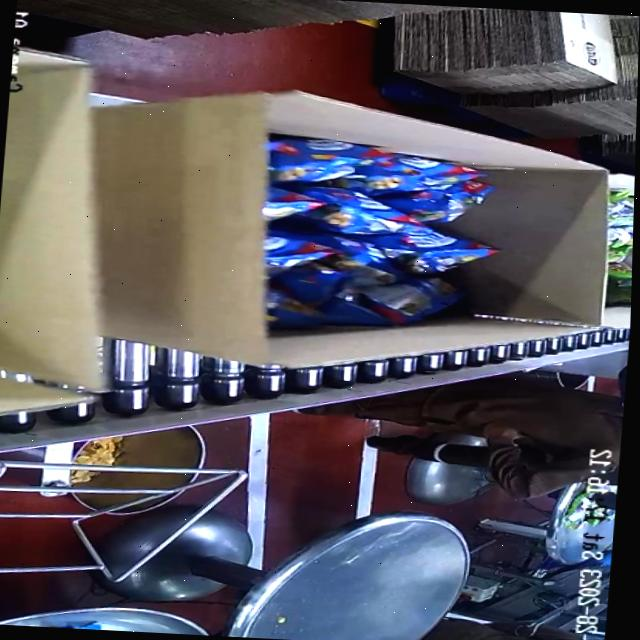PAPRIKA: (258, 136, 526, 327)
